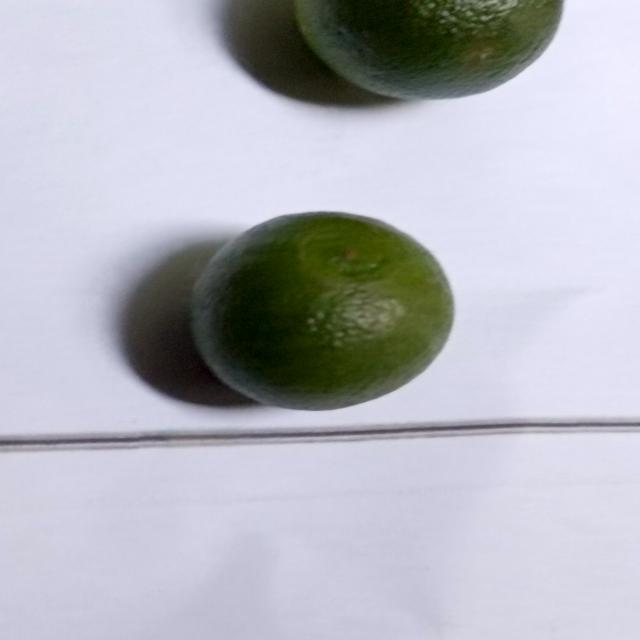heathy: (184, 210, 461, 416)
